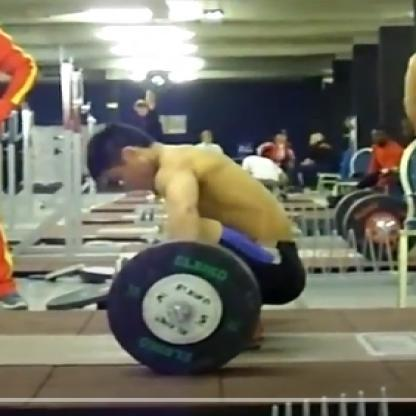barbell: (107, 241, 261, 379)
